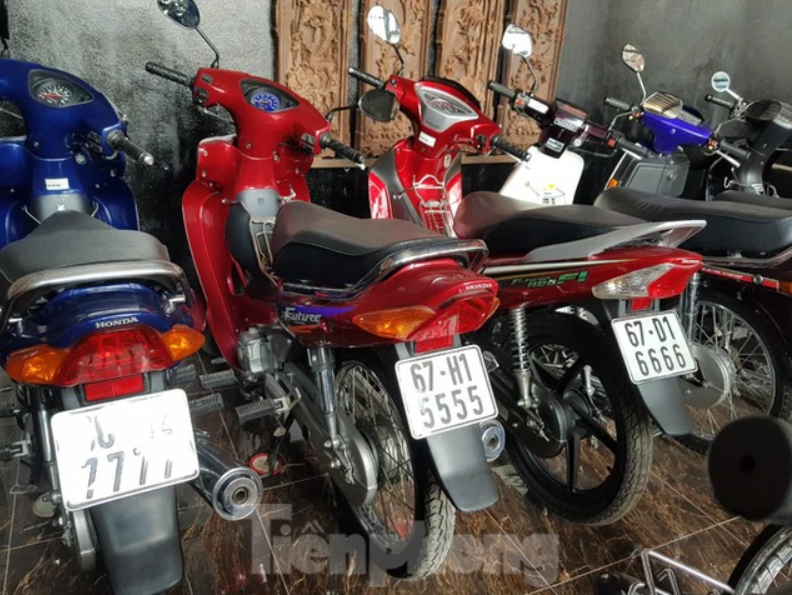bien_so: (49, 385, 205, 516), (390, 339, 497, 442), (610, 307, 702, 388)
